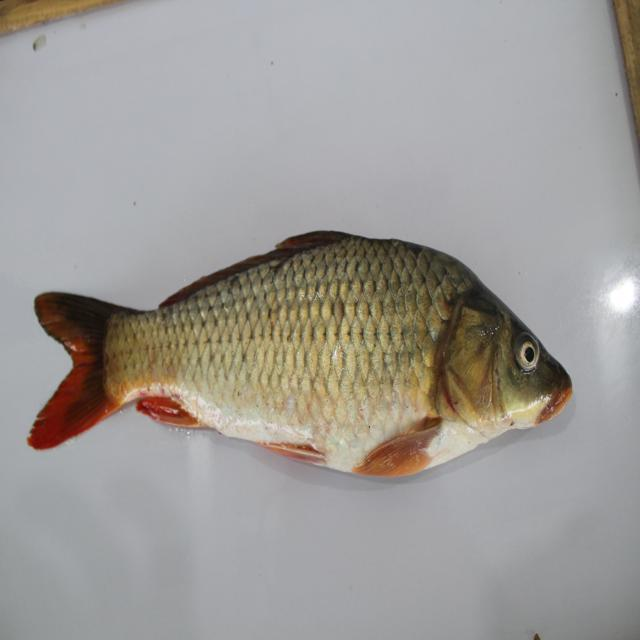CommonCarp: (23, 227, 595, 510)
